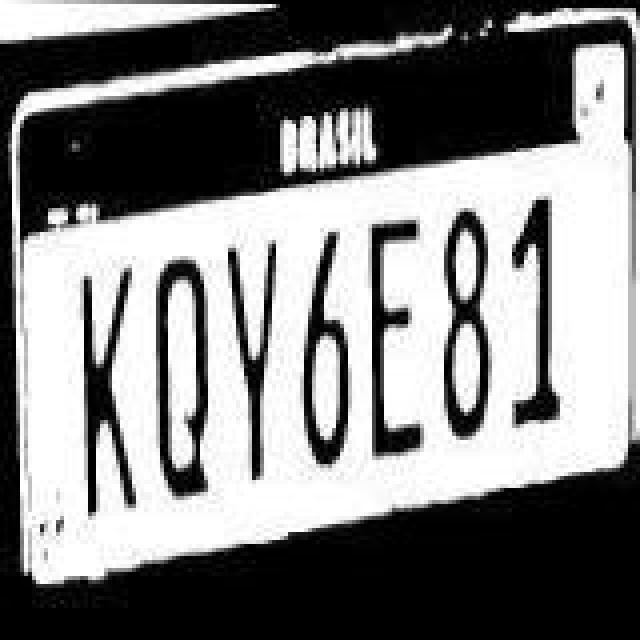1: (510, 184, 578, 444)
6: (304, 226, 360, 478)
8: (440, 198, 504, 446)
E: (366, 206, 434, 458)
K: (78, 250, 146, 538)
Q: (154, 252, 214, 528)
Y: (220, 216, 292, 508)
